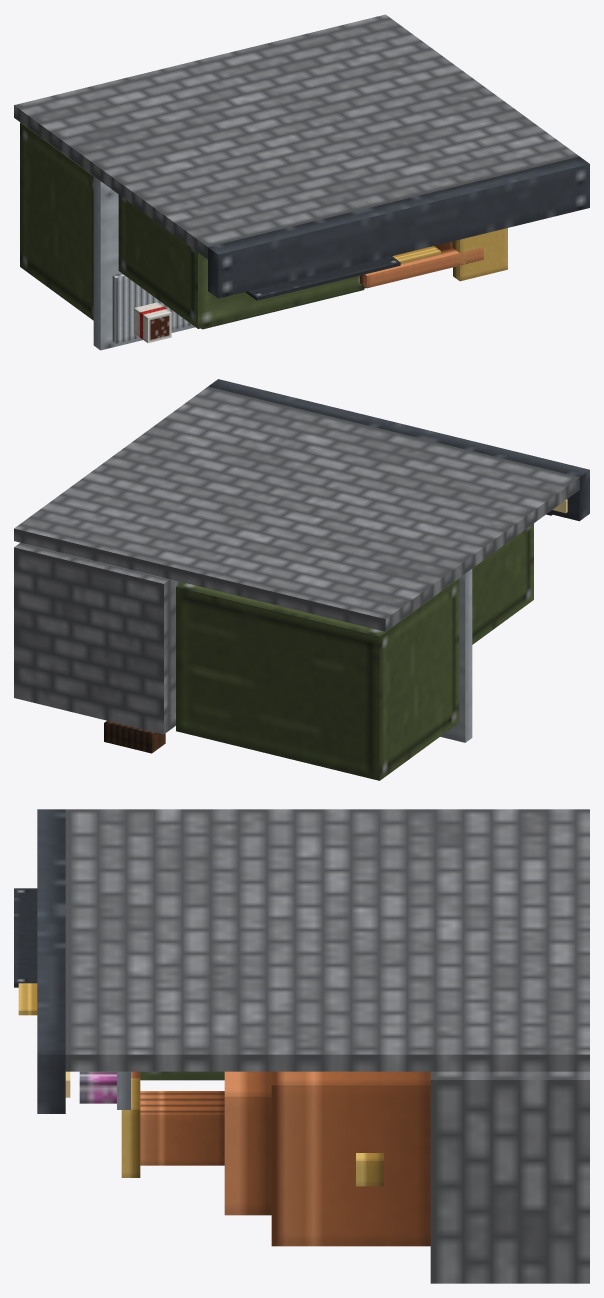
Rendered from drink_mixer_mk3.obj.
3 views of the same model, one above another, from view 1: azimuth 30°, elevation 25°; view 2: azimuth 150°, elevation 25°; view 3: azimuth 270°, elevation 25° (orthographic). The views are drawn at different scales.
Visible parts, largest first — view 1: drink_mixer_mk3_Backsplash, drink_mixer_mk3_Beam, drink_mixer_mk3_Cabinet, drink_mixer_mk3_Tower, drink_mixer_mk3_Counter, drink_mixer_mk3_Drip_tray, drink_mixer_mk3_Still_cap, drink_mixer_mk3_Lyne_arm, drink_mixer_mk3_Sign, drink_mixer_mk3_Cup_2, drink_mixer_mk3_Tier_plate; view 2: drink_mixer_mk3_Backsplash, drink_mixer_mk3_Cabinet, drink_mixer_mk3_Firebox, drink_mixer_mk3_Beam, drink_mixer_mk3_Tower, drink_mixer_mk3_Counter, drink_mixer_mk3_Firewood; view 3: drink_mixer_mk3_Backsplash, drink_mixer_mk3_Firebox, drink_mixer_mk3_Still_pot, drink_mixer_mk3_Beam, drink_mixer_mk3_Still_shoulder, drink_mixer_mk3_Still_neck, drink_mixer_mk3_Sign, drink_mixer_mk3_Still_cap, drink_mixer_mk3_Shelf_bottle_3, drink_mixer_mk3_Still_valve, drink_mixer_mk3_Tower, drink_mixer_mk3_Tier_plate.
Boxes of the visible parts, left/top/right/bottom form: drink_mixer_mk3_Backsplash: left=14, top=14, right=578, bottom=259; drink_mixer_mk3_Beam: left=208, top=156, right=589, bottom=298; drink_mixer_mk3_Cabinet: left=20, top=122, right=93, bottom=320; drink_mixer_mk3_Tower: left=118, top=194, right=365, bottom=328; drink_mixer_mk3_Counter: left=93, top=176, right=194, bottom=350; drink_mixer_mk3_Drip_tray: left=112, top=273, right=192, bottom=343; drink_mixer_mk3_Still_cap: left=453, top=228, right=507, bottom=281; drink_mixer_mk3_Lyne_arm: left=360, top=247, right=483, bottom=288; drink_mixer_mk3_Sign: left=245, top=256, right=400, bottom=300; drink_mixer_mk3_Cup_2: left=134, top=302, right=171, bottom=342; drink_mixer_mk3_Tier_plate: left=392, top=246, right=440, bottom=263; drink_mixer_mk3_Backsplash: left=14, top=386, right=579, bottom=631; drink_mixer_mk3_Cabinet: left=176, top=578, right=459, bottom=780; drink_mixer_mk3_Firebox: left=14, top=542, right=181, bottom=734; drink_mixer_mk3_Beam: left=208, top=379, right=589, bottom=521; drink_mixer_mk3_Tower: left=472, top=523, right=533, bottom=644; drink_mixer_mk3_Counter: left=440, top=569, right=472, bottom=742; drink_mixer_mk3_Firewood: left=104, top=720, right=165, bottom=753; drink_mixer_mk3_Backsplash: left=65, top=809, right=589, bottom=1071; drink_mixer_mk3_Firebox: left=430, top=1071, right=589, bottom=1283; drink_mixer_mk3_Still_pot: left=271, top=1071, right=430, bottom=1246; drink_mixer_mk3_Beam: left=37, top=809, right=65, bottom=1113; drink_mixer_mk3_Still_shoulder: left=224, top=1071, right=271, bottom=1215; drink_mixer_mk3_Still_neck: left=140, top=1091, right=224, bottom=1165; drink_mixer_mk3_Sign: left=14, top=888, right=37, bottom=987; drink_mixer_mk3_Still_cap: left=121, top=1078, right=140, bottom=1177; drink_mixer_mk3_Shelf_bottle_3: left=79, top=1072, right=116, bottom=1103; drink_mixer_mk3_Still_valve: left=356, top=1153, right=383, bottom=1186; drink_mixer_mk3_Tower: left=140, top=1071, right=224, bottom=1080; drink_mixer_mk3_Tier_plate: left=18, top=983, right=37, bottom=1015.
Size of the model in its own units: 1.94 by 0.9531 by 1.92.
